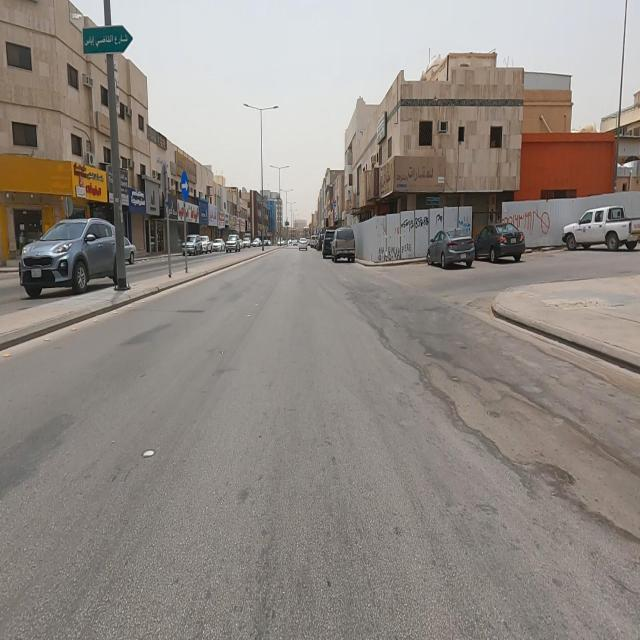Graffiti: (378, 242, 412, 262), (503, 211, 550, 224), (401, 216, 428, 231), (523, 223, 551, 236), (457, 220, 471, 232), (392, 226, 400, 236), (436, 214, 443, 224)
